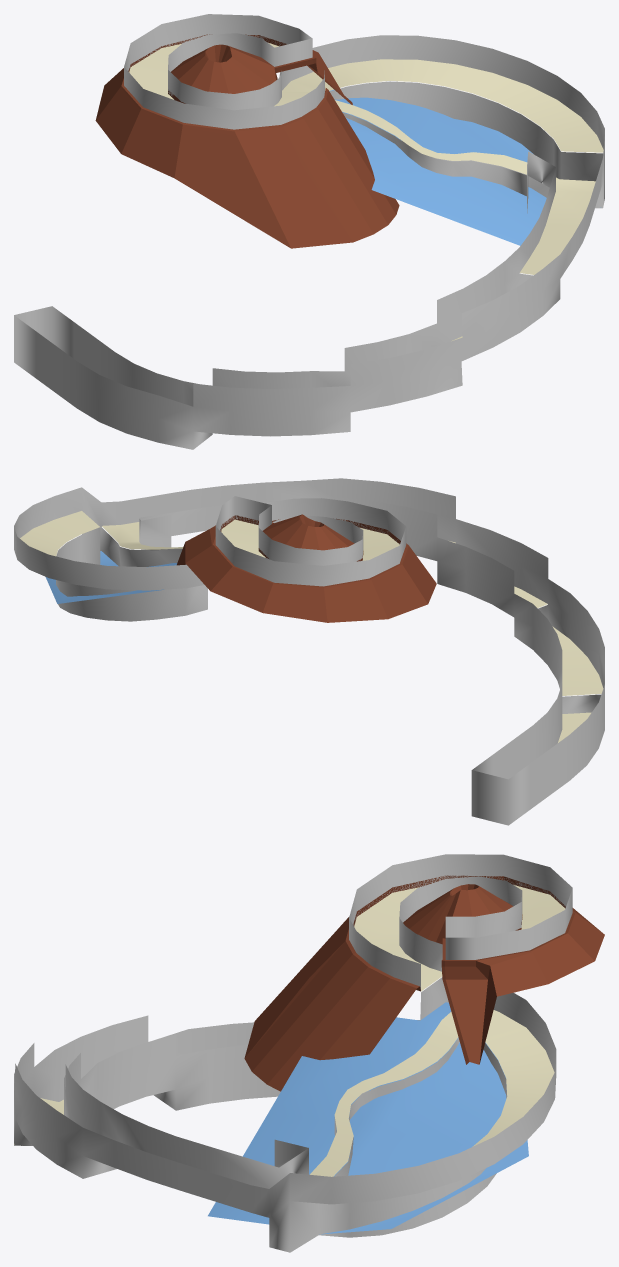
Rendered from SpiralMountainTwo.fbx.
The picture shows the model from 3 angles, top to bottom: view 1: azimuth 30°, elevation 25°; view 2: azimuth 150°, elevation 25°; view 3: azimuth 270°, elevation 25°; orthographic projection. The views are drawn at different scales.
Parts seen in each view (by area): view 1: Walls, World, Track, OOB; view 2: Walls, World, Track, OOB; view 3: Walls, World, OOB, Track.
Boxes of the visible parts, bbox=[...] form: Walls: bbox=[14, 14, 604, 449]; World: bbox=[95, 34, 399, 248]; Track: bbox=[129, 43, 603, 341]; OOB: bbox=[329, 89, 600, 245]; Walls: bbox=[14, 478, 604, 825]; World: bbox=[177, 514, 436, 622]; Track: bbox=[20, 511, 603, 742]; OOB: bbox=[45, 551, 177, 603]; Walls: bbox=[14, 854, 572, 1252]; World: bbox=[244, 875, 604, 1091]; OOB: bbox=[208, 1002, 528, 1234]; Track: bbox=[14, 885, 565, 1176].
Bounding box in the file's own units: 13858 × 6652 × 11743.
